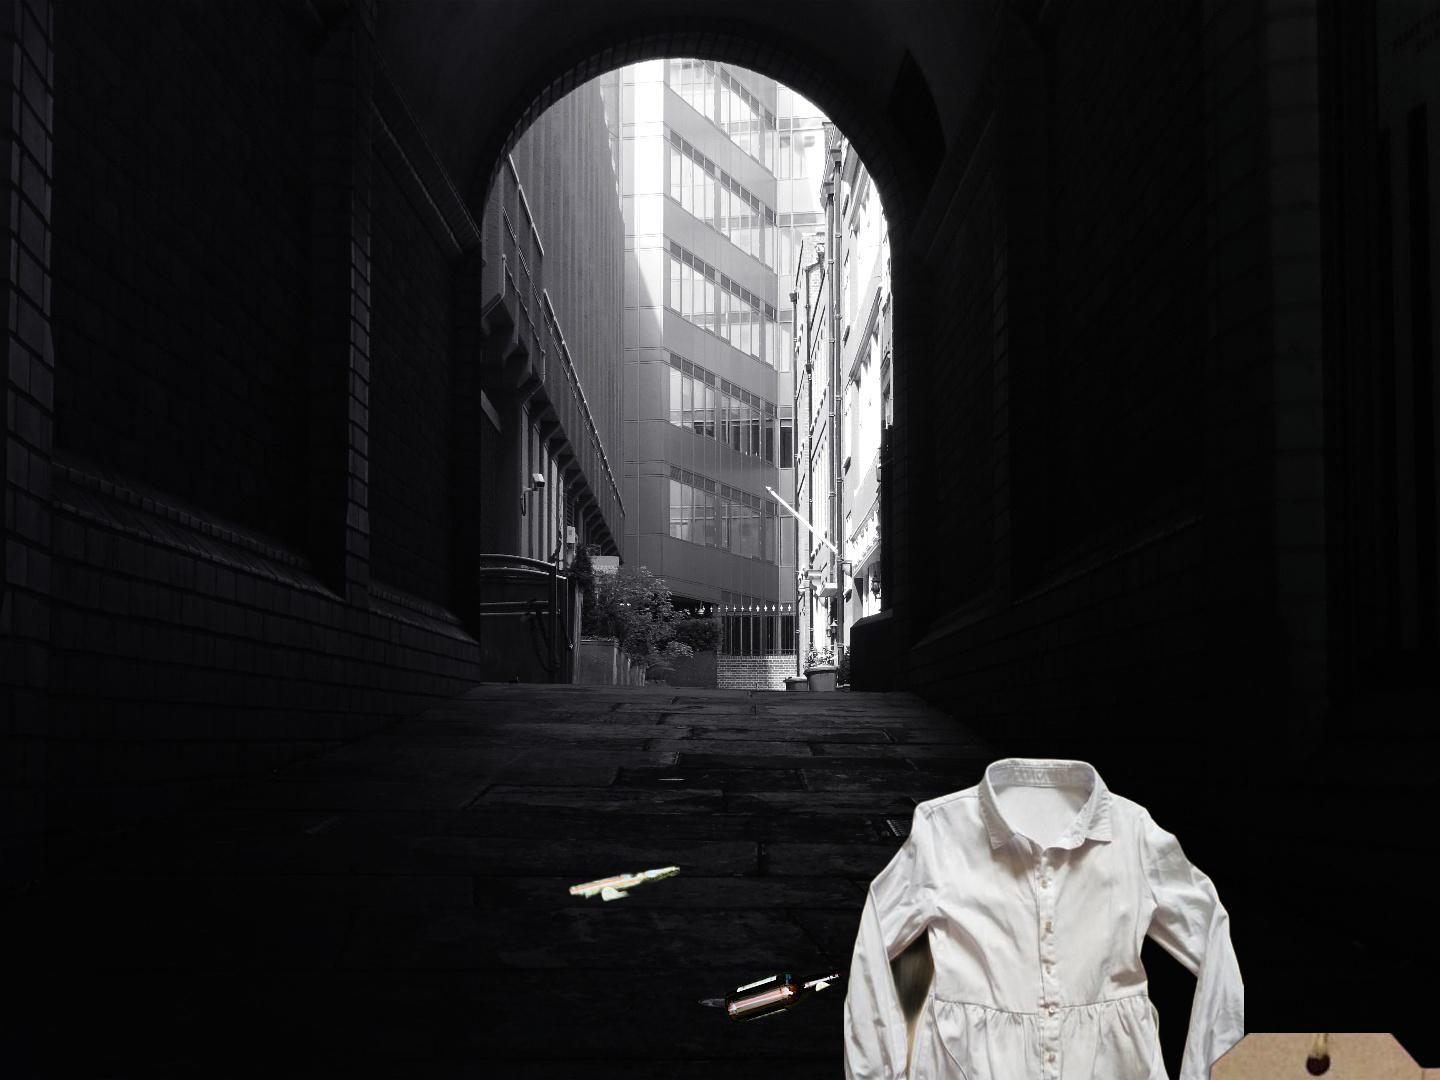clothes: (844, 754, 1244, 1080)
glass: (565, 860, 847, 1080)
trashbox-cardboard: (1056, 1033, 1440, 1080)
